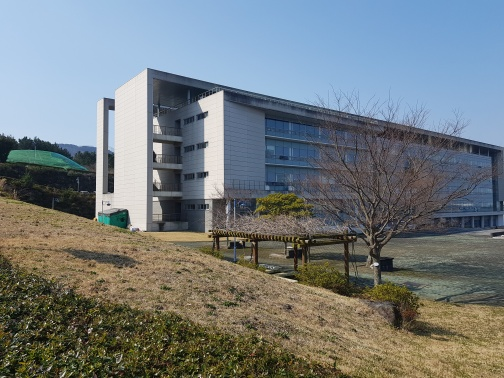Engineering College Building 4: (97, 82, 498, 211), (97, 83, 217, 227)
